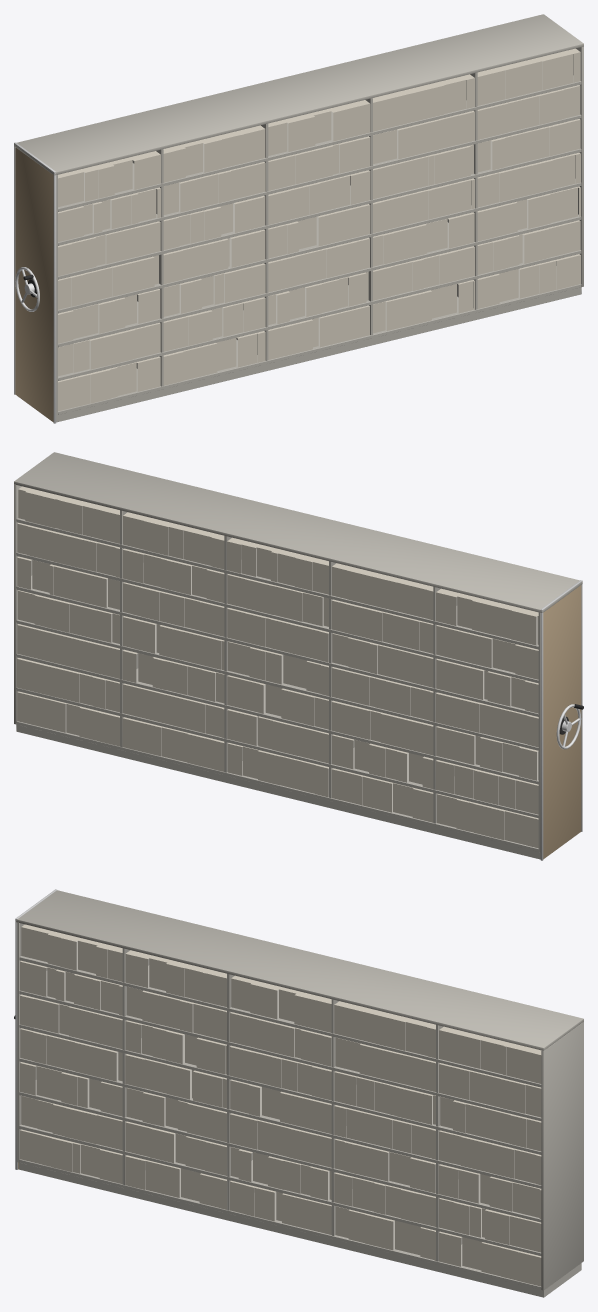
The model's file is Kit_MobileShelving_5.fbx.
3 views of the same model, one above another, from view 1: azimuth 30°, elevation 25°; view 2: azimuth 150°, elevation 25°; view 3: azimuth 330°, elevation 25° (orthographic).
Parts seen in each view (by area): view 1: Kit_MobileShelving_5_LOD0; view 2: Kit_MobileShelving_5_LOD0; view 3: Kit_MobileShelving_5_LOD0.
Part boxes in pixels (box(x1,y1,x2,y2)): Kit_MobileShelving_5_LOD0: box(14, 14, 583, 423); Kit_MobileShelving_5_LOD0: box(14, 452, 583, 860); Kit_MobileShelving_5_LOD0: box(14, 889, 583, 1297).
Size of what is drawn, in the model's own units: 4.76 by 2.1 by 0.61.
